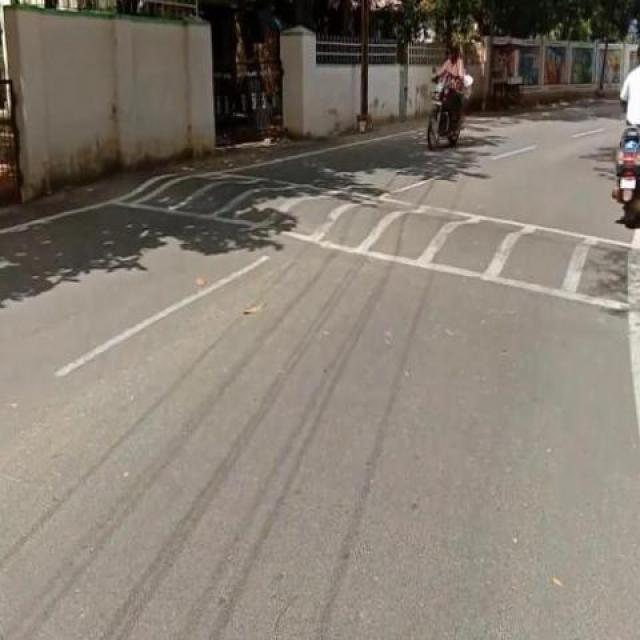Speed Bump: (127, 174, 612, 304), (609, 238, 639, 326)
